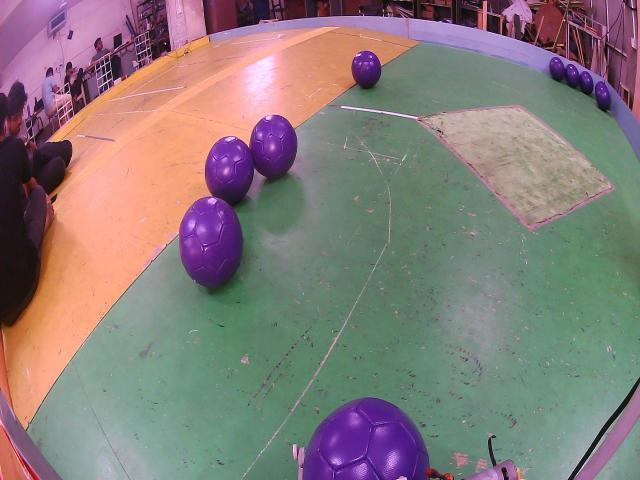jambhalya: (301, 397, 430, 480), (179, 197, 244, 287), (205, 135, 254, 205), (250, 115, 298, 178), (351, 50, 381, 88), (549, 57, 565, 80), (579, 70, 594, 94), (565, 63, 580, 87), (595, 87, 610, 110), (595, 80, 606, 91)
